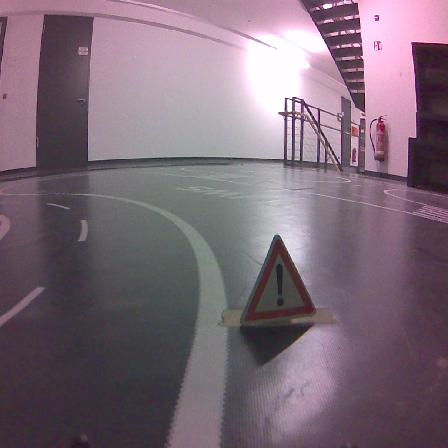ATTENTION: (240, 235, 315, 325)
